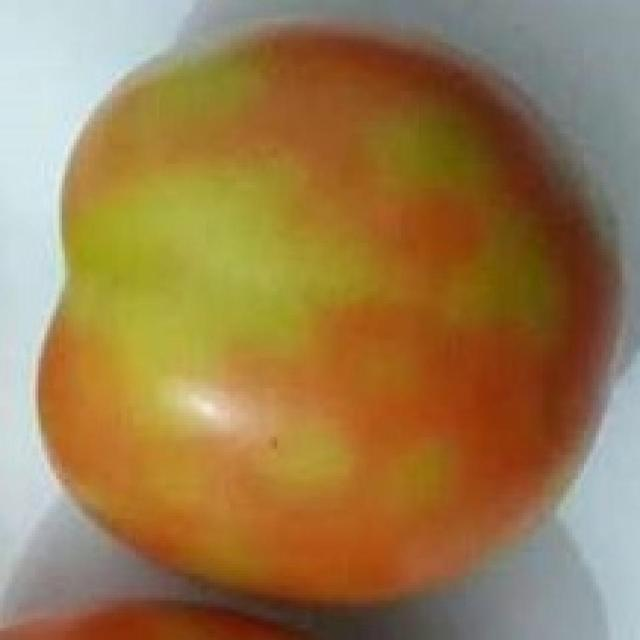Spotted wilt Virus Fruit: (22, 10, 416, 402)
